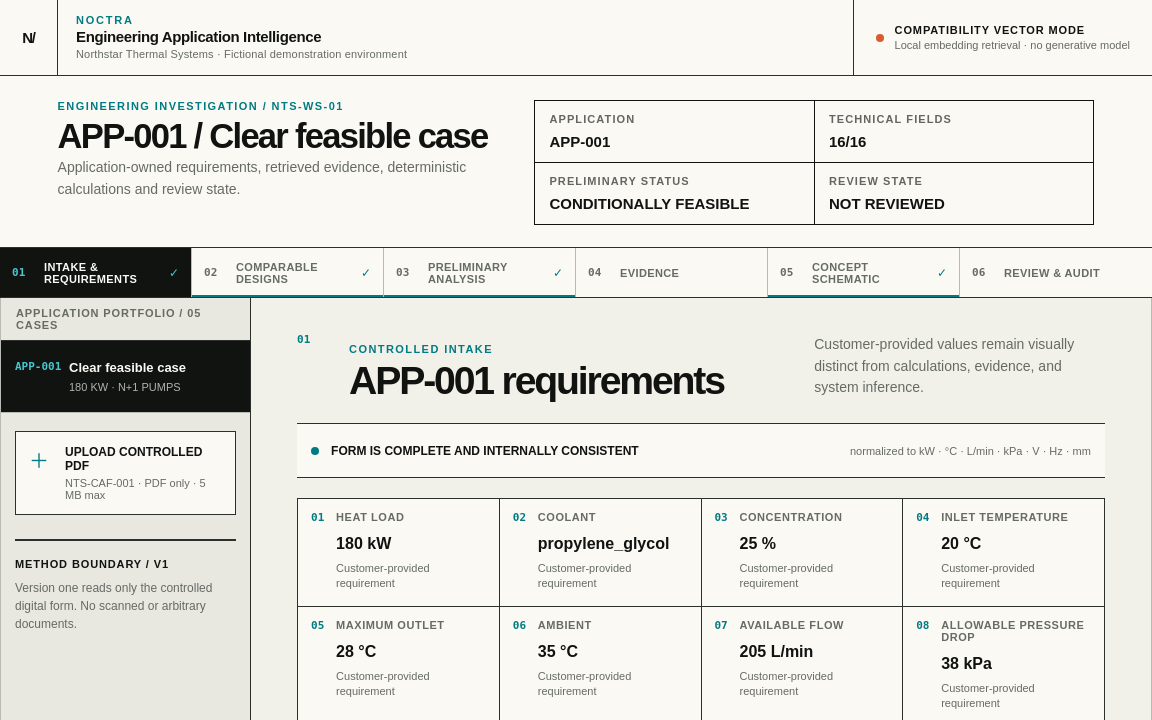
Test case: workspace › renders schematic warning
Expected: the heading "APP-001 requirements" is shown, [349,359,724,402]
Click the button "05 Concept schematic ✓".
click(864, 272)  # box [768,248,960,297]
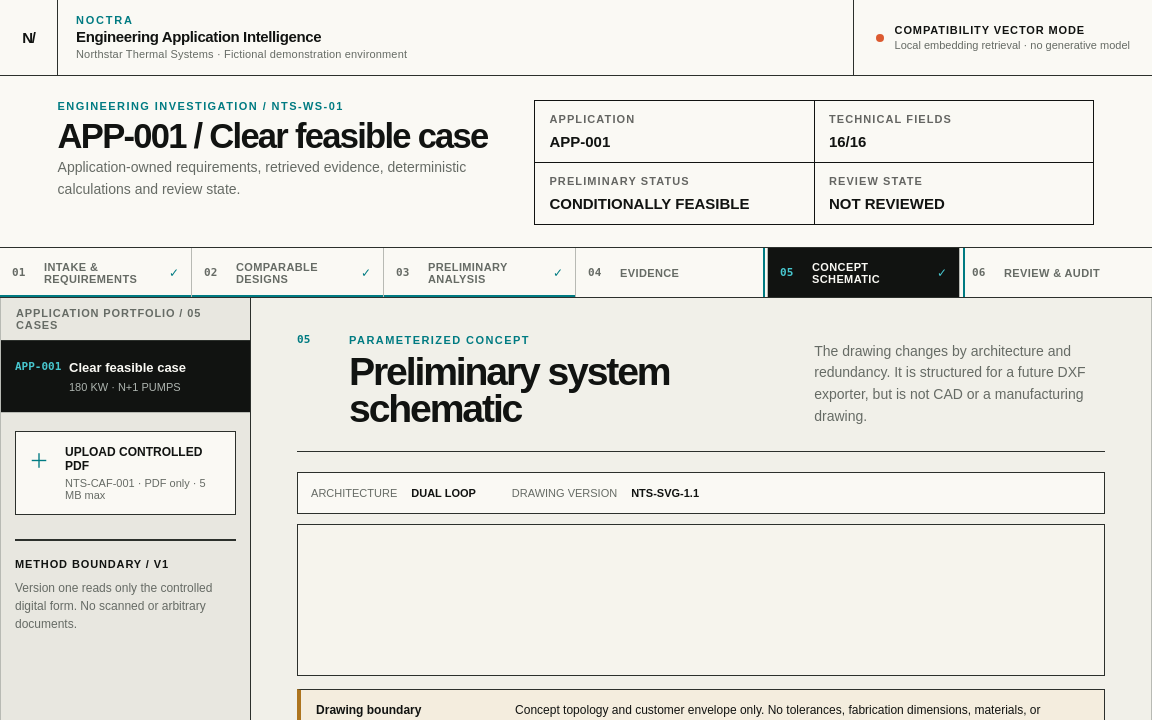
Expected: the text "not CAD or a manufacturing drawing" is shown, [814,343,1086,424]
